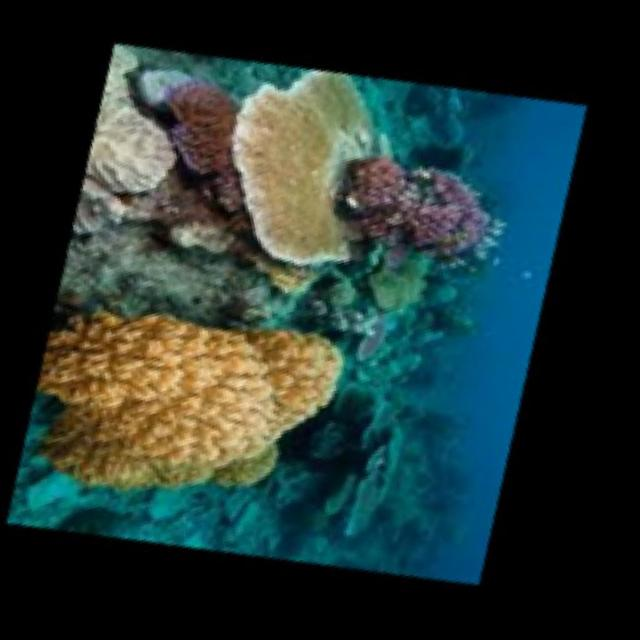Dead Coral: (296, 395, 463, 548)
